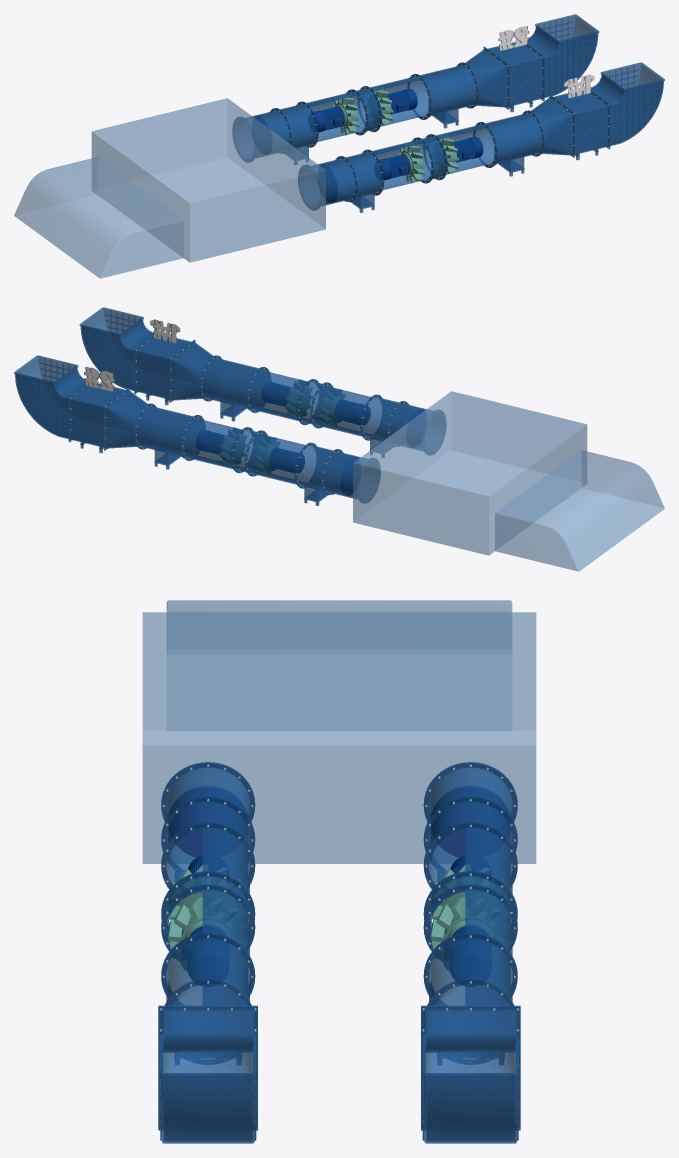
The model's file is main.FBX.
3 renders of one model, top to bottom at view 1: azimuth 30°, elevation 25°; view 2: azimuth 150°, elevation 25°; view 3: azimuth 270°, elevation 25°, orthographic. The views are drawn at different scales.
Visible parts, largest first — view 1: Box159, Line2957, 对象122, 对象124, 对象112, 对象094, 对象123, 对象111, 对象100, 对象113, 2, 1 (+2 smaller); view 2: Box159, Line2957, 对象124, 对象122, 对象094, 对象112, 对象123, 对象111, 2, 对象100, 对象113, 1 (+2 smaller); view 3: Box159, Line2957, 对象121, 对象125, 对象124, 对象122, 对象113, 对象100, 对象123, 对象111, Cylinder225.
Boxes of the visible parts, x1,y1,x2,y2 form: Box159: [14, 98, 325, 278]; Line2957: [232, 14, 664, 210]; 对象122: [366, 87, 393, 126]; 对象124: [432, 135, 459, 174]; 对象112: [308, 106, 344, 132]; 对象094: [374, 154, 409, 180]; 对象123: [398, 143, 425, 183]; 对象111: [332, 95, 360, 135]; 对象100: [453, 136, 483, 162]; 对象113: [388, 88, 417, 114]; 2: [498, 25, 529, 50]; 1: [564, 74, 594, 98]; Box159: [353, 391, 664, 571]; Line2957: [14, 307, 446, 503]; 对象124: [285, 379, 312, 419]; 对象122: [220, 427, 246, 466]; 对象094: [335, 400, 370, 425]; 对象112: [269, 448, 304, 472]; 对象123: [319, 387, 345, 427]; 对象111: [253, 435, 279, 475]; 2: [84, 367, 114, 391]; 对象100: [261, 382, 291, 406]; 对象113: [196, 430, 226, 454]; 1: [150, 319, 180, 343]; Box159: [142, 600, 536, 863]; Line2957: [158, 762, 520, 1143]; 对象121: [431, 786, 509, 857]; 对象125: [169, 786, 247, 857]; 对象124: [168, 897, 247, 970]; 对象122: [431, 897, 510, 970]; 对象113: [444, 926, 491, 986]; 对象100: [182, 926, 228, 986]; 对象123: [169, 864, 246, 933]; 对象111: [431, 864, 509, 933]; Cylinder225: [159, 764, 519, 1128].
Size of the model in its own units: 4168 by 586 by 1260.
7 materials, 3 textured.
